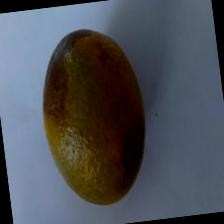Orange Rotten: (24, 9, 164, 218)
